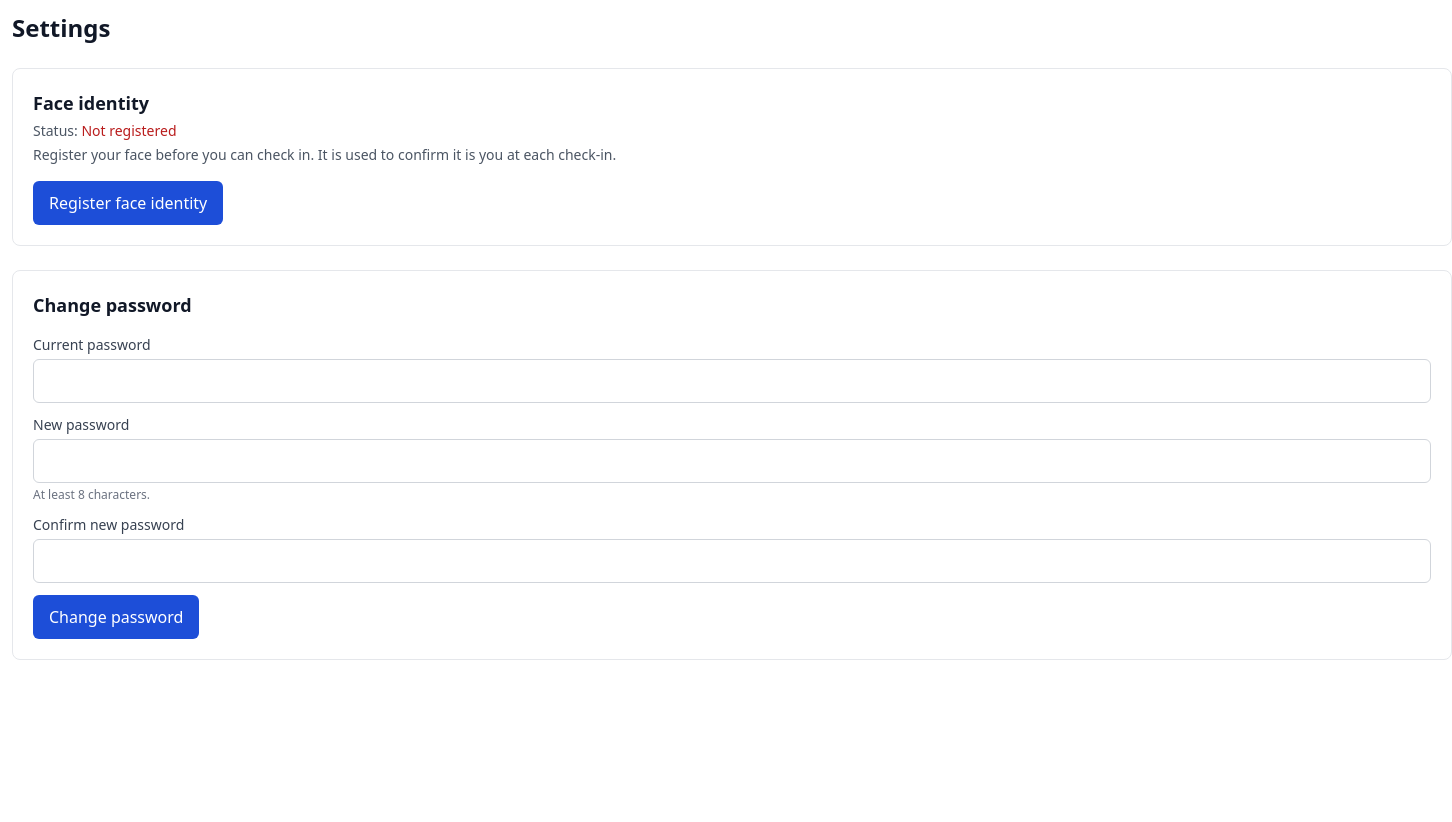
Test: Settings face identity › stops the camera and does not enroll when consent was not saved on the server
Step 1. Click the button "Register face identity" → (128, 203), box [33,181,223,225]
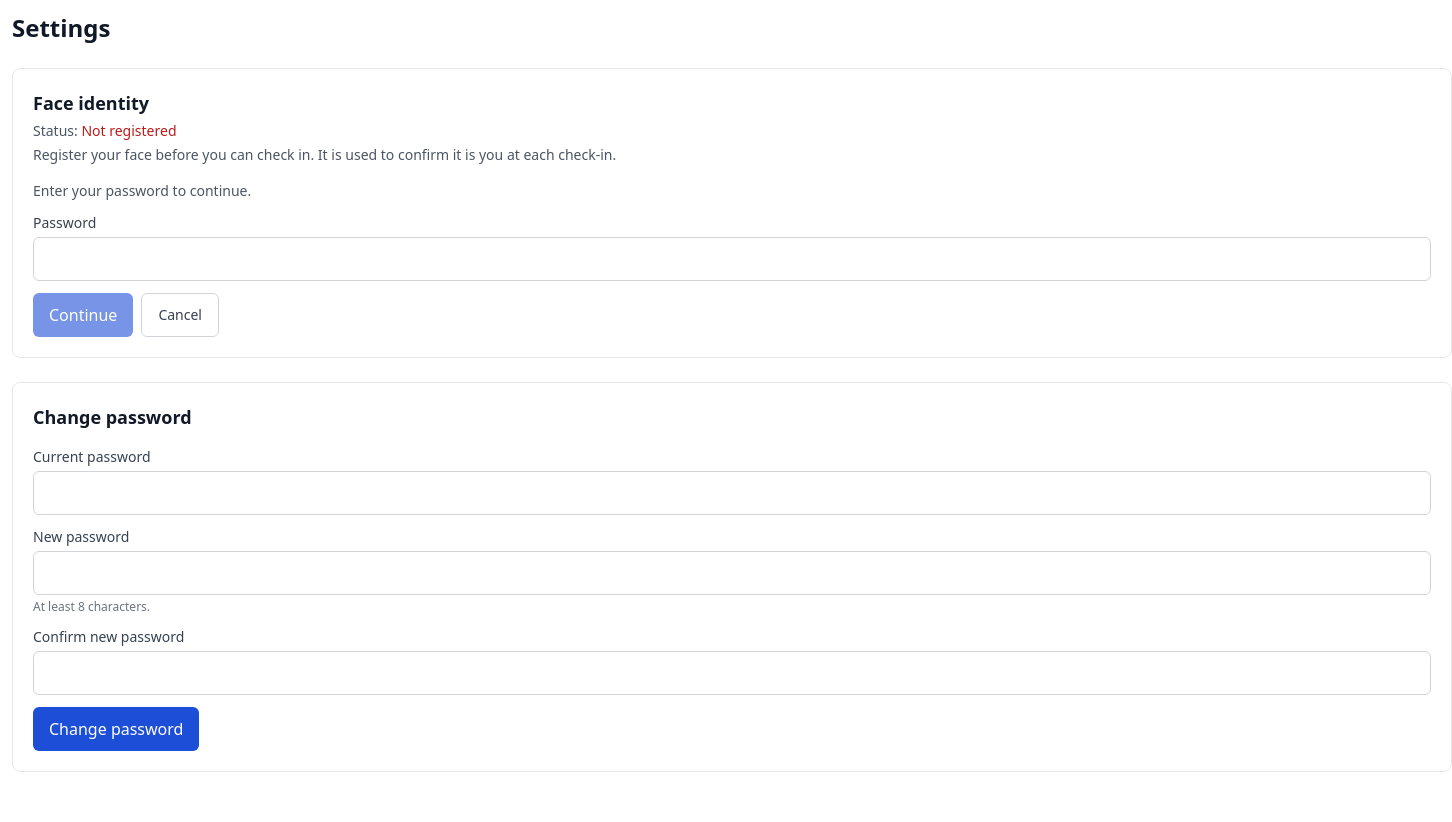
Step 2. Type "right" into the password field labelled "Password" → (732, 259), box [33,237,1431,281]
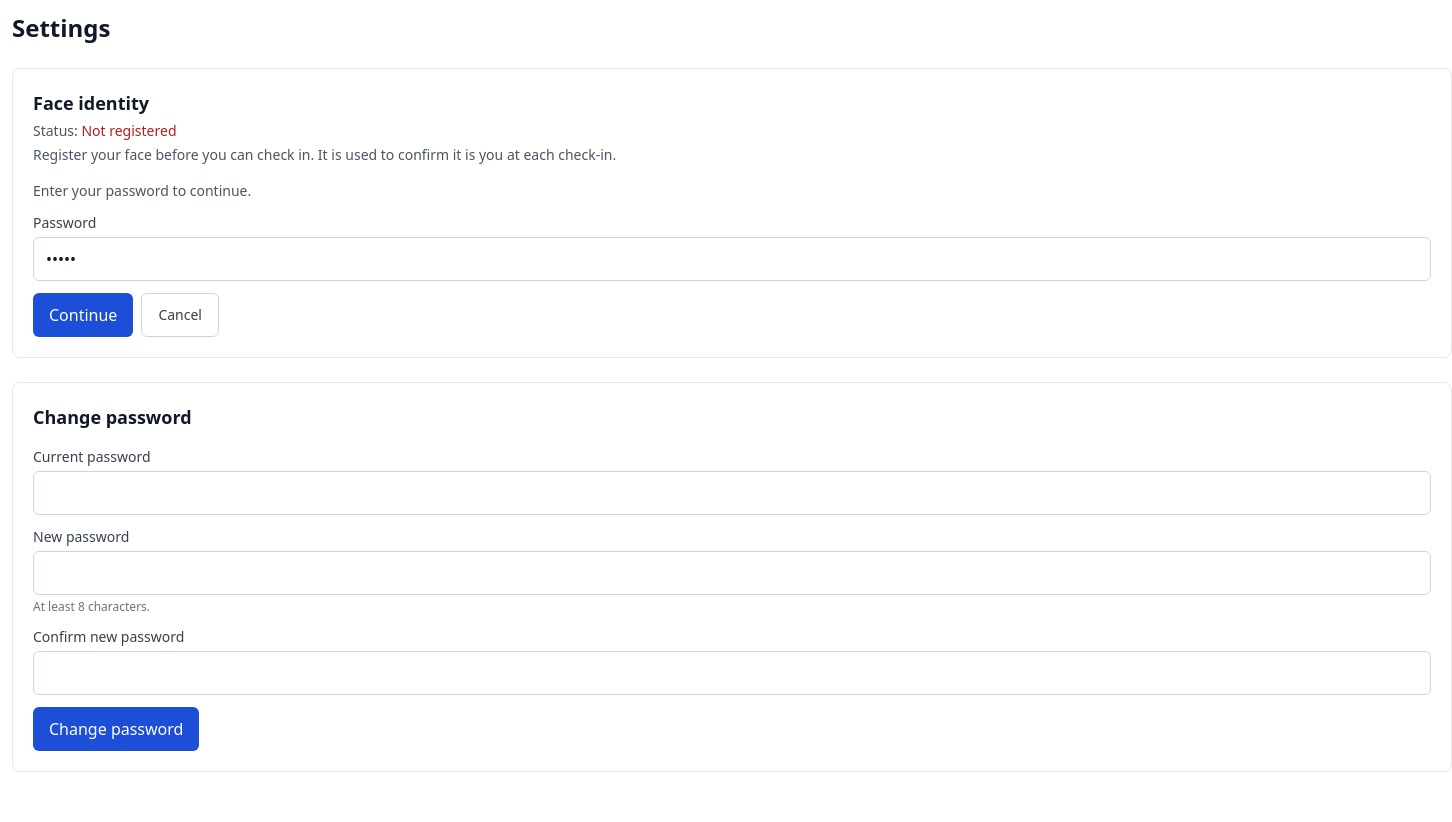
Step 3. Click the button "Continue" → (83, 315), box [33,293,133,337]
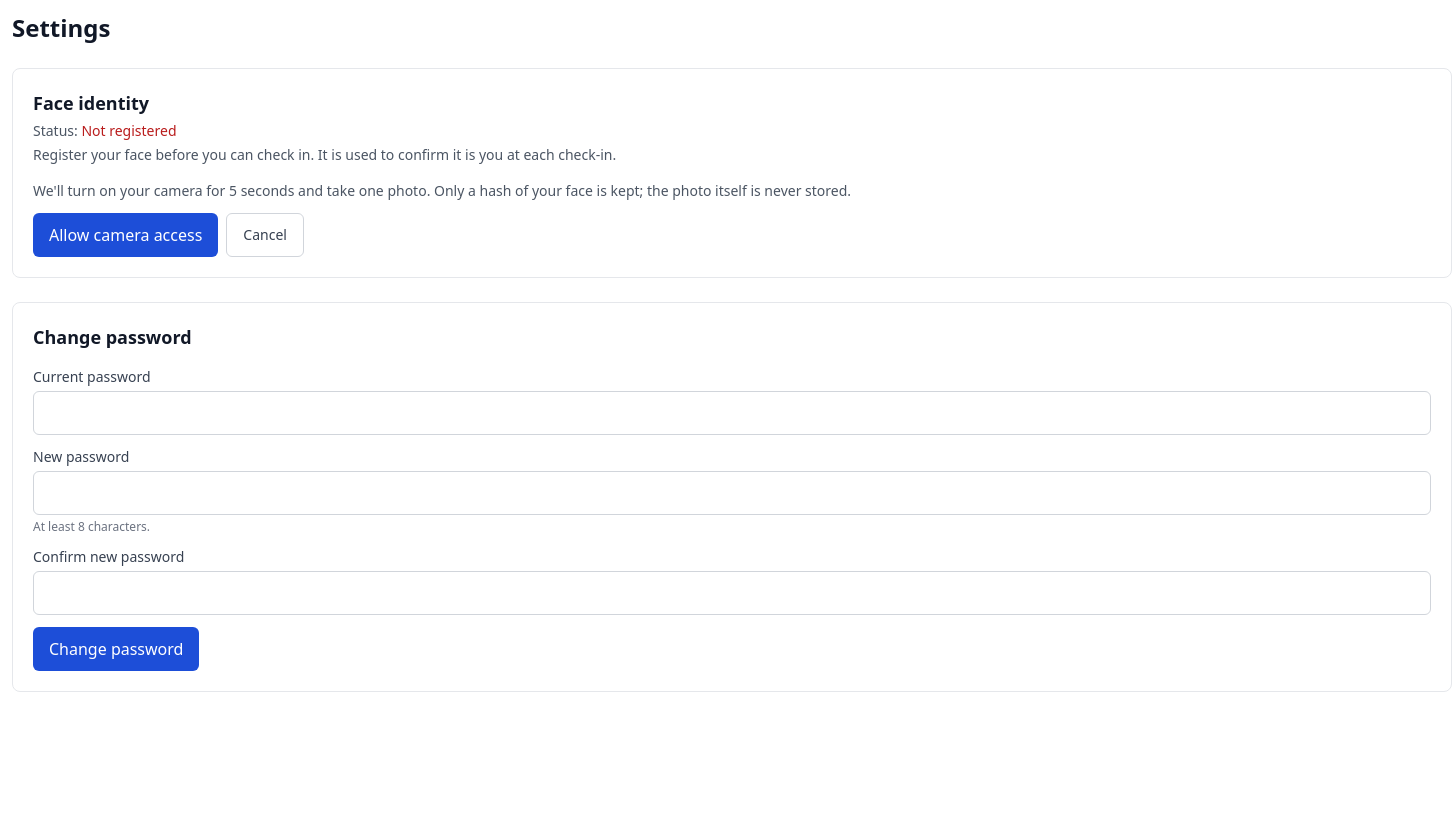
Step 4. Click the button "Allow camera access" → (126, 235), box [33,213,218,257]
Wait 6000 ms
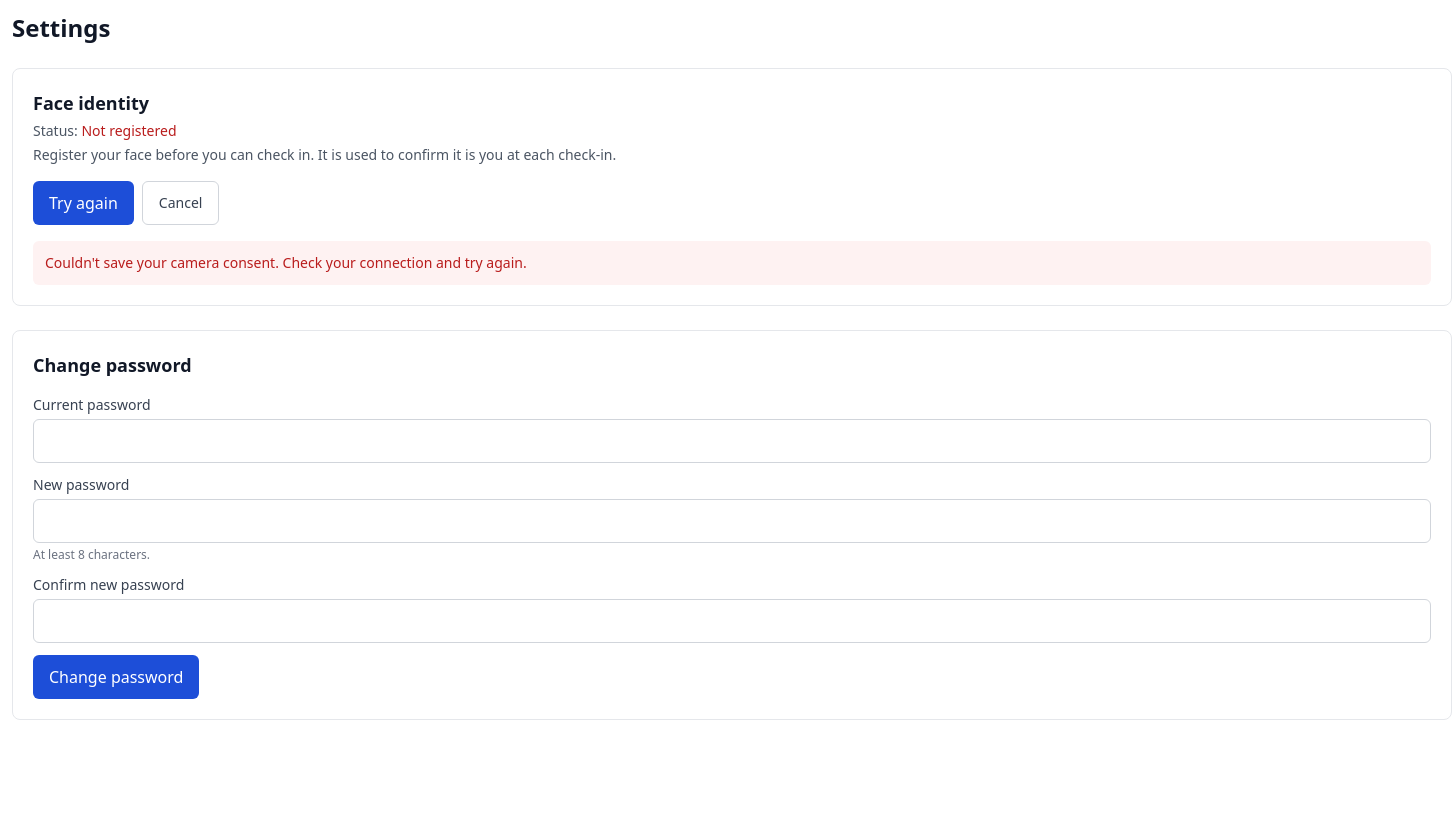
expect the message shows "Couldn't save your camera consent": met, box [45,253,527,272]
